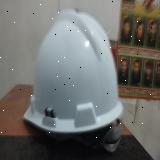Helmet: (22, 8, 123, 134)
